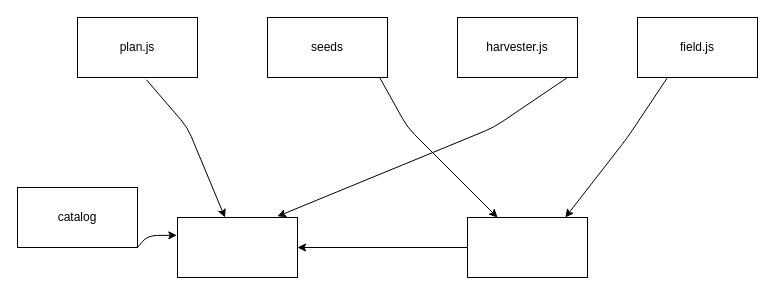
This 775x295 diagram has some shape labels left out. The shapes that lost their labels are listed below. From the top down, each one's centre as x and y in pixels, then its label:
At point 237,247: "Main.js".
At point 527,247: "tractor.js".
